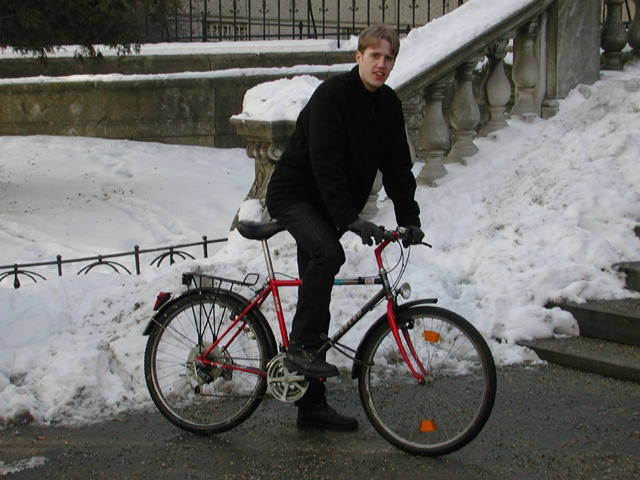person: (269, 21, 429, 432)
